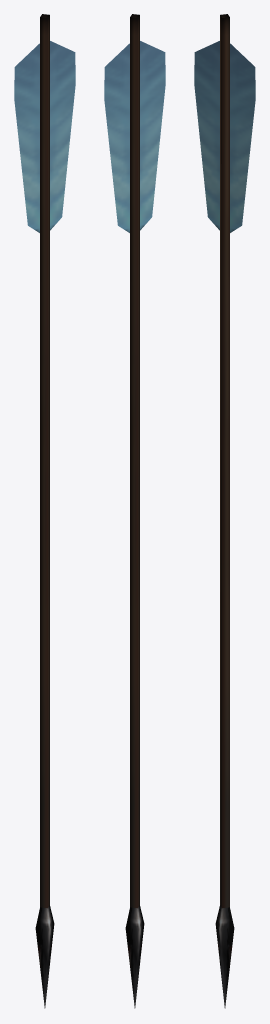
File: jian.FBX
3 views of the same model, side by side, from view 1: azimuth 30°, elevation 25°; view 2: azimuth 210°, elevation 25°; view 3: azimuth 330°, elevation 25° (orthographic).
Visible parts, largest first — view 1: W1006; view 2: W1006; view 3: W1006.
Part boxes in pixels (bbox=[...]): W1006: bbox=[14, 14, 75, 1008]; W1006: bbox=[104, 14, 165, 1008]; W1006: bbox=[194, 14, 255, 1008].
Bounding box in the file's own units: 8.72 × 135 × 2.68.
